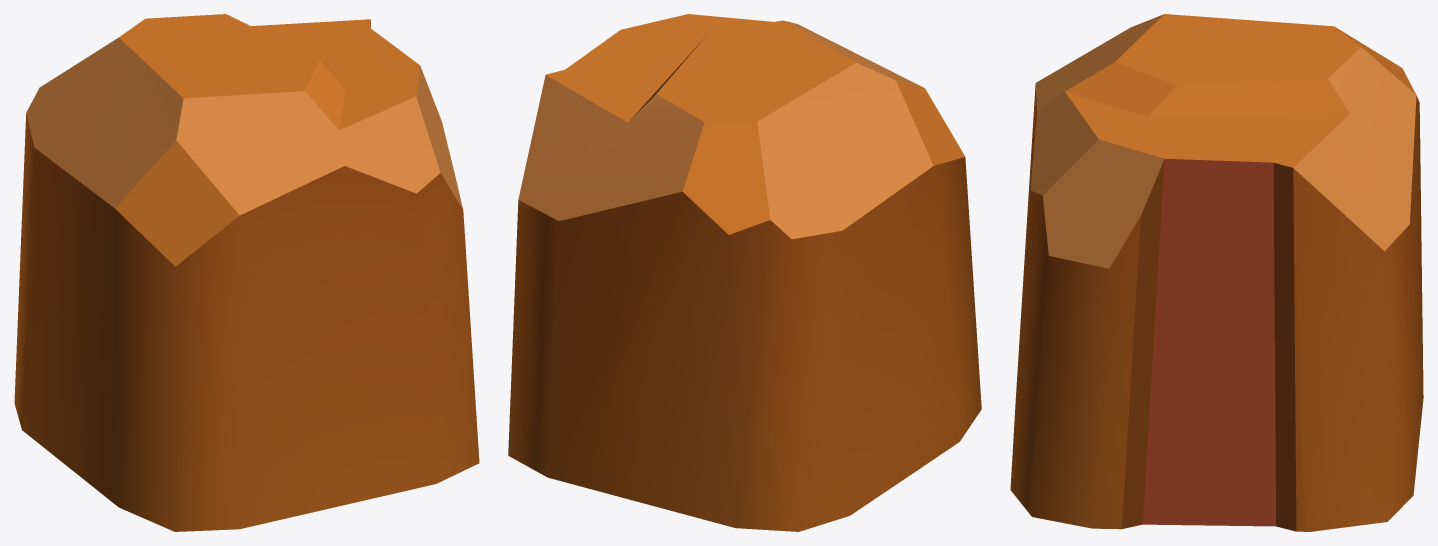
Rendered from SM_Platform_Tower_04.fbx.
3 views of the same model, side by side, from view 1: azimuth 30°, elevation 25°; view 2: azimuth 150°, elevation 25°; view 3: azimuth 270°, elevation 25° (orthographic). The views are drawn at different scales.
Parts seen in each view (by area): view 1: SM_Platform_Tower_04; view 2: SM_Platform_Tower_04; view 3: SM_Platform_Tower_04.
Boxes of the visible parts, box(x1,y1,x2,y2) form: SM_Platform_Tower_04: box(14, 14, 479, 531); SM_Platform_Tower_04: box(508, 14, 981, 531); SM_Platform_Tower_04: box(1010, 14, 1423, 531).
Size of the model in its own units: 6.28 by 6.52 by 6.3.
